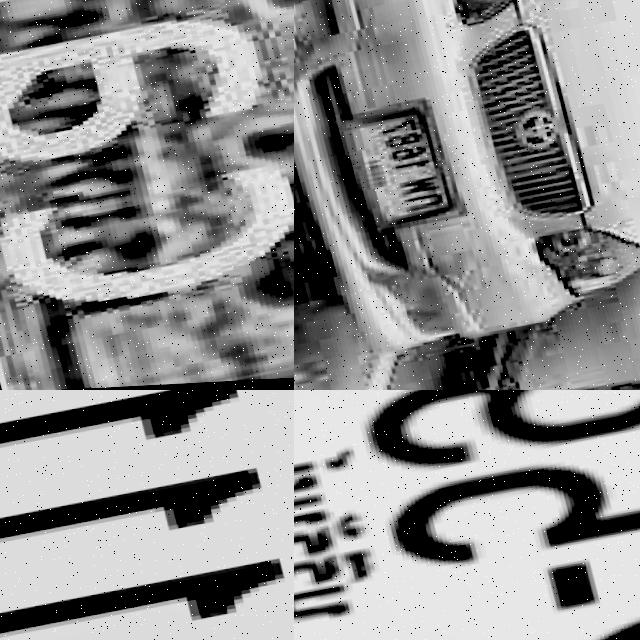license-plate: (0, 0, 294, 390), (294, 390, 640, 640), (0, 390, 294, 640), (317, 80, 461, 237)
